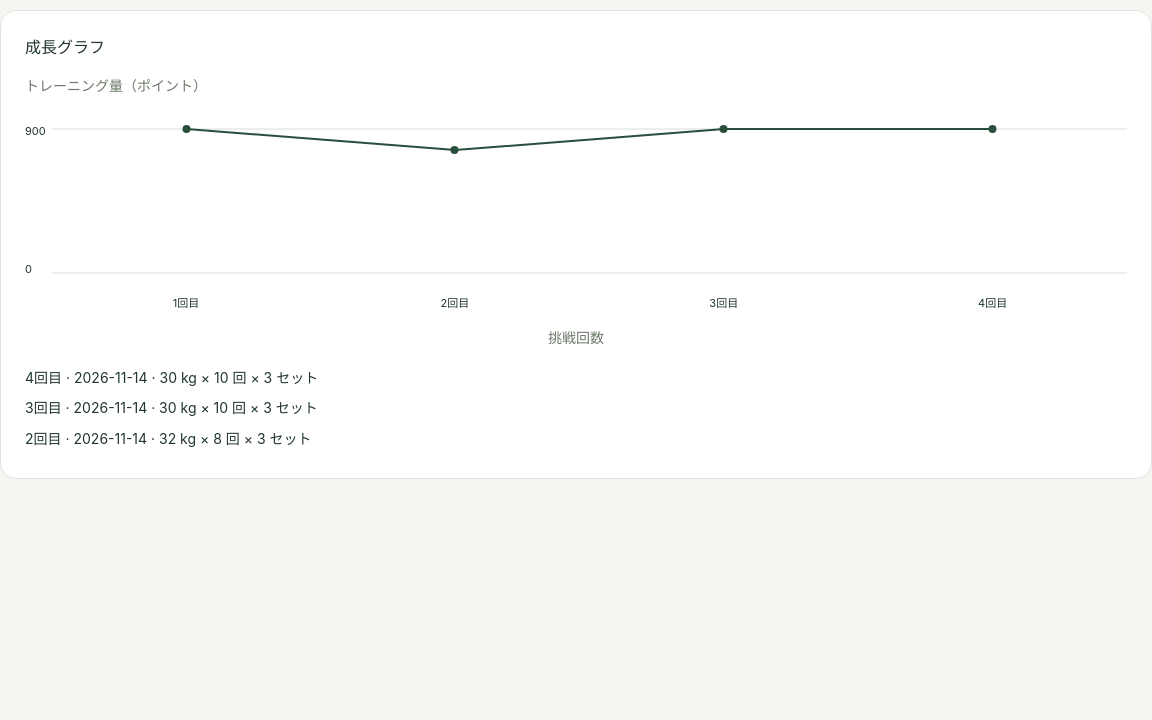
Test: 直近3件を最新順で保ち、古い点の詳細だけを別に表示する
This screenshot has width=1152, height=720.
Click the button named "1回目". click: click(186, 129)
box: [79, 107, 294, 151]
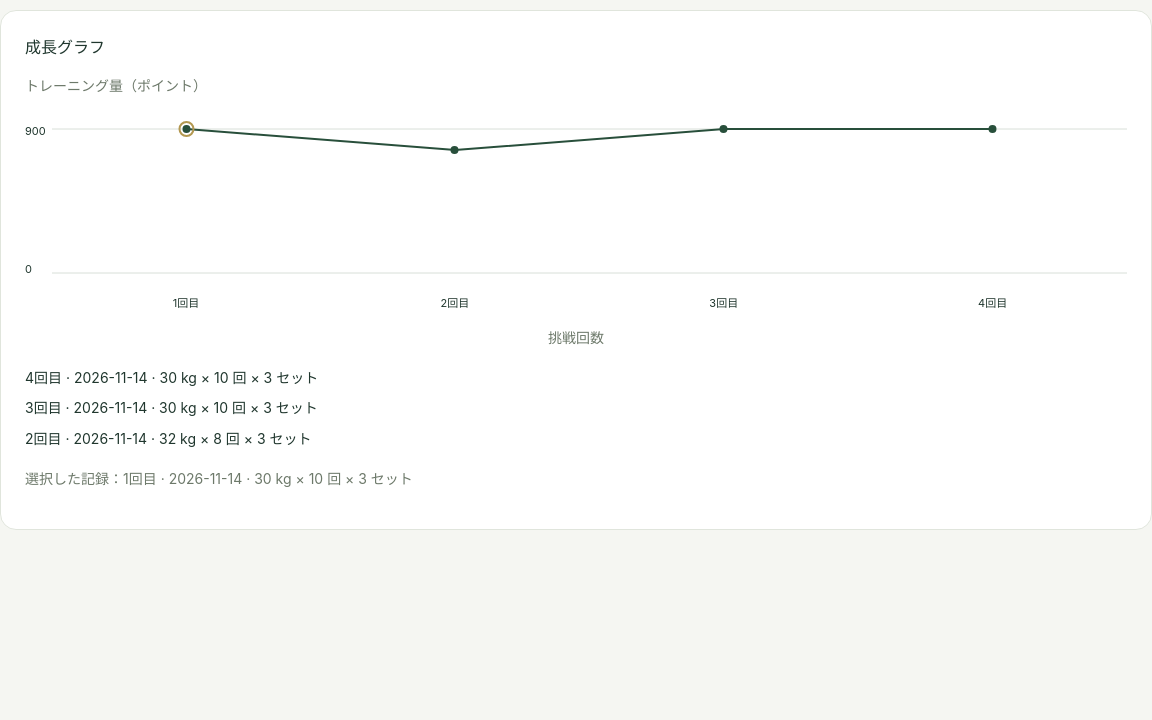
Expected: the number of list items is 3, [25, 369, 318, 386]; [25, 399, 318, 416]; [25, 430, 312, 447]
Now the message shows "1回目 · 2026-11-14 · 30 kg × 10 回 × 3 セット", box [25, 470, 413, 487]
